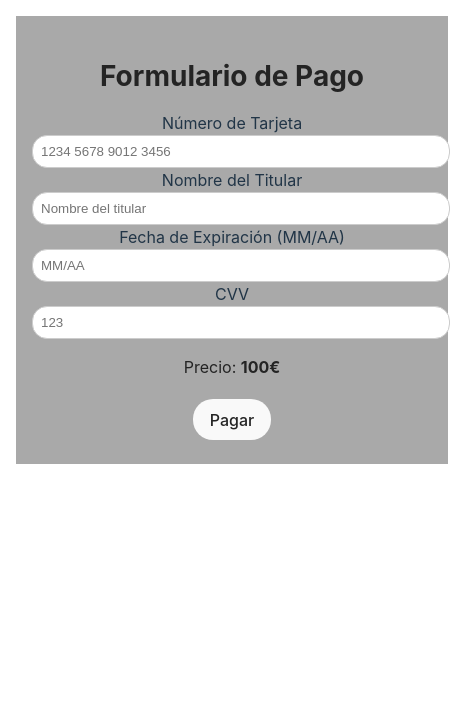
Test: PaymentSimulation Component › shows error messages for invalid card holder name
The width and height of the screenshot is (467, 725).
Type "ab" into the field labelled "Nombre del Titular" at (241, 209), box x1=32 y1=192 x2=450 y2=225
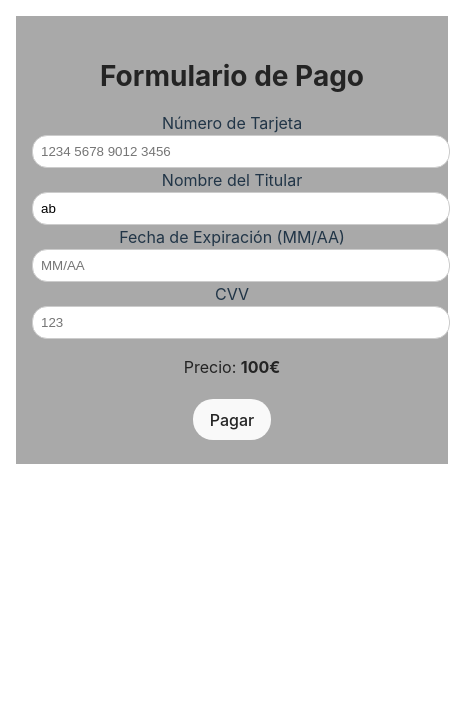
Click the button "Pagar" at (232, 420), box x1=193 y1=399 x2=271 y2=440
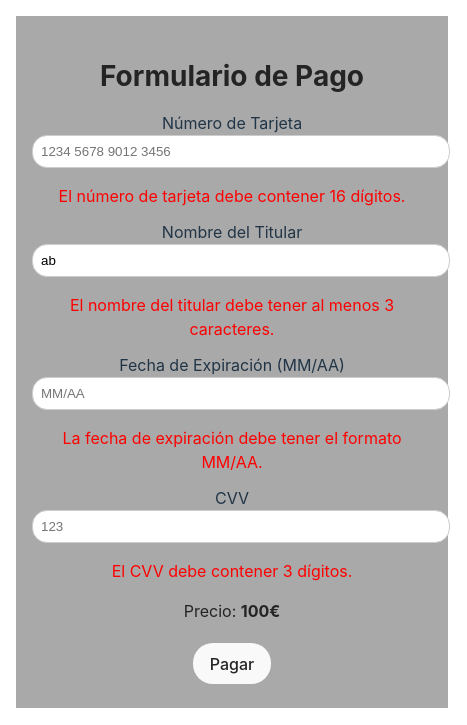
Expected: the text "El nombre del titular debe tener al menos 3 caracteres." is shown, x1=70 y1=295 x2=394 y2=339
